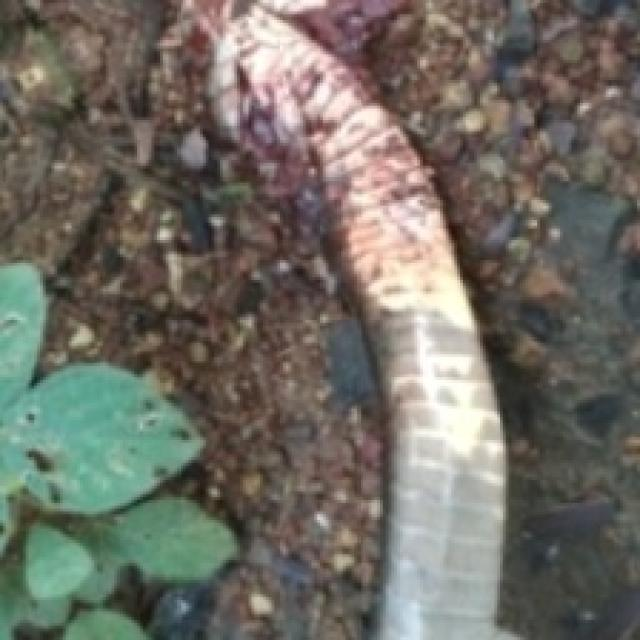king cobra: (209, 0, 637, 637), (209, 6, 511, 637)
